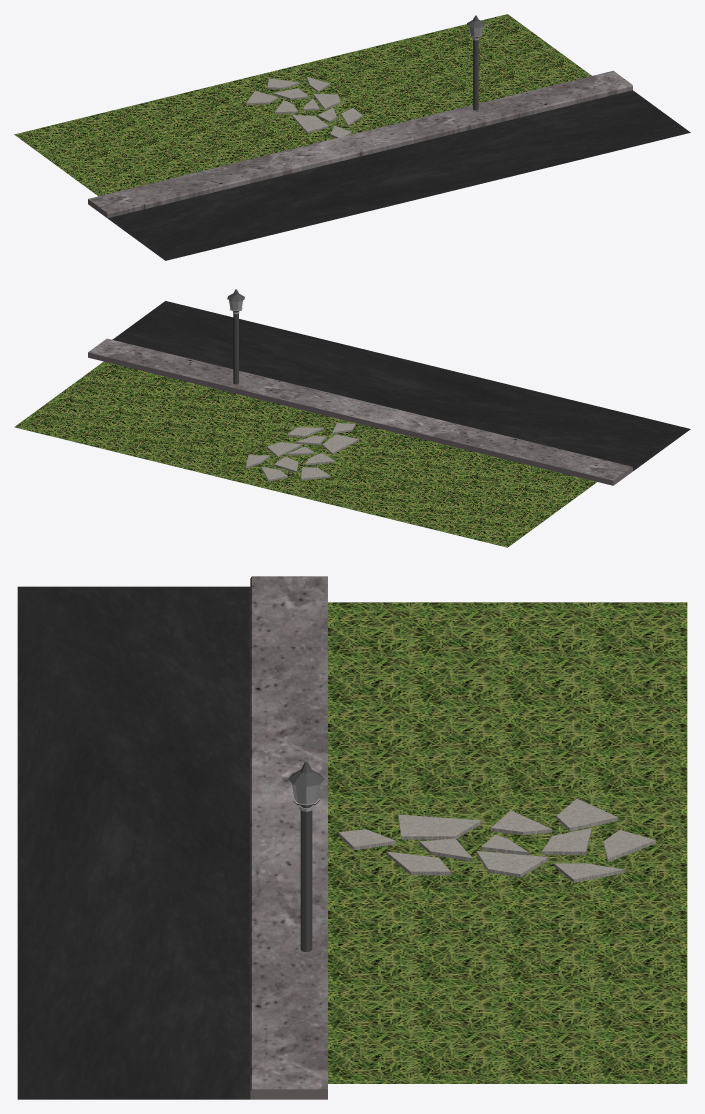
Rendered from fora.fbx.
The picture shows the model from 3 angles, top to bottom: view 1: azimuth 30°, elevation 25°; view 2: azimuth 150°, elevation 25°; view 3: azimuth 270°, elevation 25°; orthographic projection. The views are drawn at different scales.
Visible parts, largest first — view 1: rua_calcada, grama, poste, Cube.002; view 2: grama, rua_calcada, poste, Cube.002; view 3: grama, rua_calcada, poste, Cube.002, Cube.003, Cube.007, Cube.001, Cube.005, Cube.008, Cube.004, Cube.006, Cube.009.
Boxes of the visible parts, left/top/right/bottom form: rua_calcada: left=88, top=70, right=690, bottom=260; grama: left=14, top=14, right=591, bottom=196; poste: left=467, top=15, right=484, bottom=110; Cube.002: left=292, top=115, right=328, bottom=133; grama: left=14, top=361, right=596, bottom=547; rua_calcada: left=88, top=301, right=690, bottom=485; poste: left=227, top=289, right=244, bottom=384; Cube.002: left=322, top=434, right=358, bottom=454; grama: left=328, top=602, right=687, bottom=1083; rua_calcada: left=17, top=576, right=327, bottom=1099; poste: left=288, top=761, right=324, bottom=952; Cube.002: left=398, top=814, right=481, bottom=839; Cube.003: left=476, top=851, right=548, bottom=877; Cube.007: left=556, top=798, right=617, bottom=831; Cube.001: left=386, top=851, right=450, bottom=875; Cube.005: left=541, top=828, right=591, bottom=854; Cube.008: left=603, top=830, right=655, bottom=861; Cube.004: left=490, top=810, right=552, bottom=835; Cube.006: left=554, top=863, right=624, bottom=882; Cube.009: left=338, top=829, right=396, bottom=850.
Size of the model in its own units: 80.12 by 14.47 by 44.21.
Materials: 7 (4 with a texture image).
